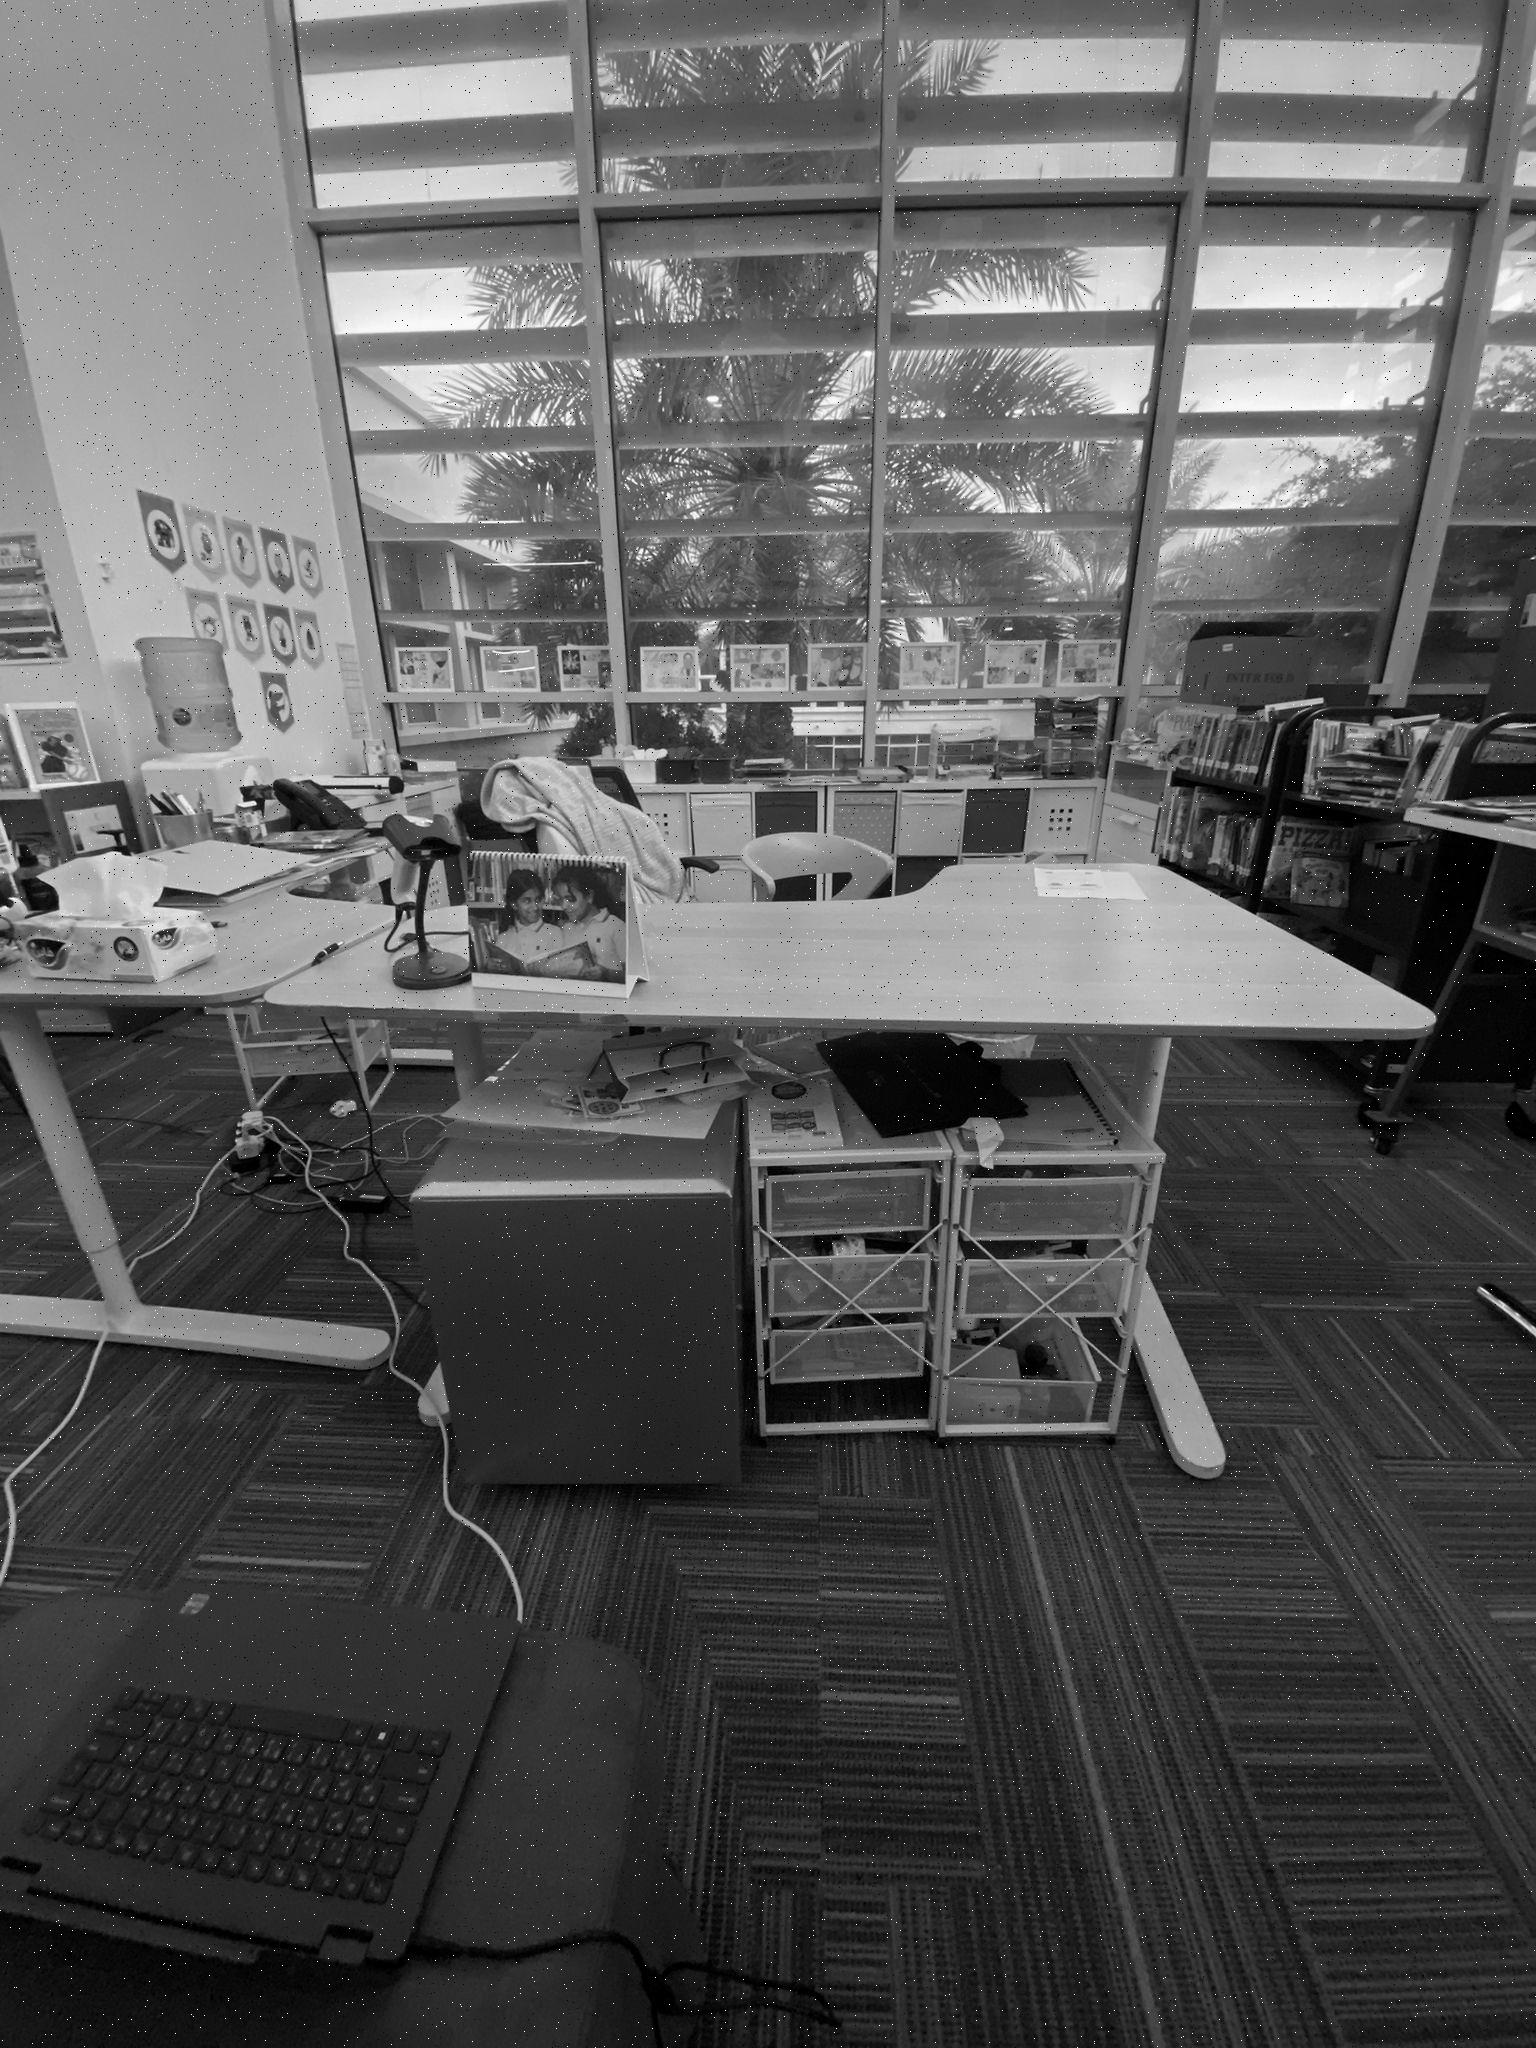Table: (0, 863, 1433, 1371)
Wall: (0, 244, 121, 769)
